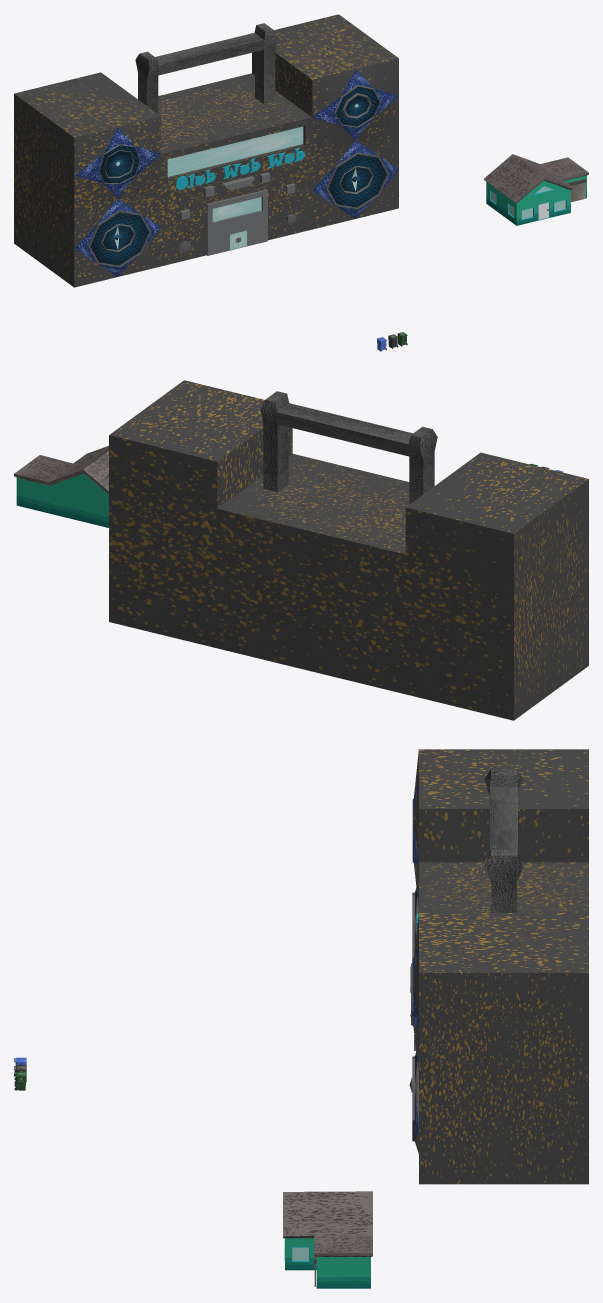
Rendered from Club_Wub_Wub_trash_cans_house_3.fbx.
3 renders of one model, top to bottom at view 1: azimuth 30°, elevation 25°; view 2: azimuth 150°, elevation 25°; view 3: azimuth 270°, elevation 25°, orthographic. The views are drawn at different scales.
Visible parts, largest first — view 1: Club_Wub_Wub, House_3; view 2: Club_Wub_Wub, House_3; view 3: Club_Wub_Wub, House_3.
Boxes of the visible parts, bbox=[...] form: Club_Wub_Wub: bbox=[14, 14, 398, 287]; House_3: bbox=[484, 154, 588, 225]; Club_Wub_Wub: bbox=[109, 380, 588, 720]; House_3: bbox=[14, 445, 108, 527]; Club_Wub_Wub: bbox=[409, 749, 588, 1184]; House_3: bbox=[283, 1191, 372, 1288].
Bounding box in the file's own units: 5852 × 2158 × 4324.
6 materials, 5 textured.
